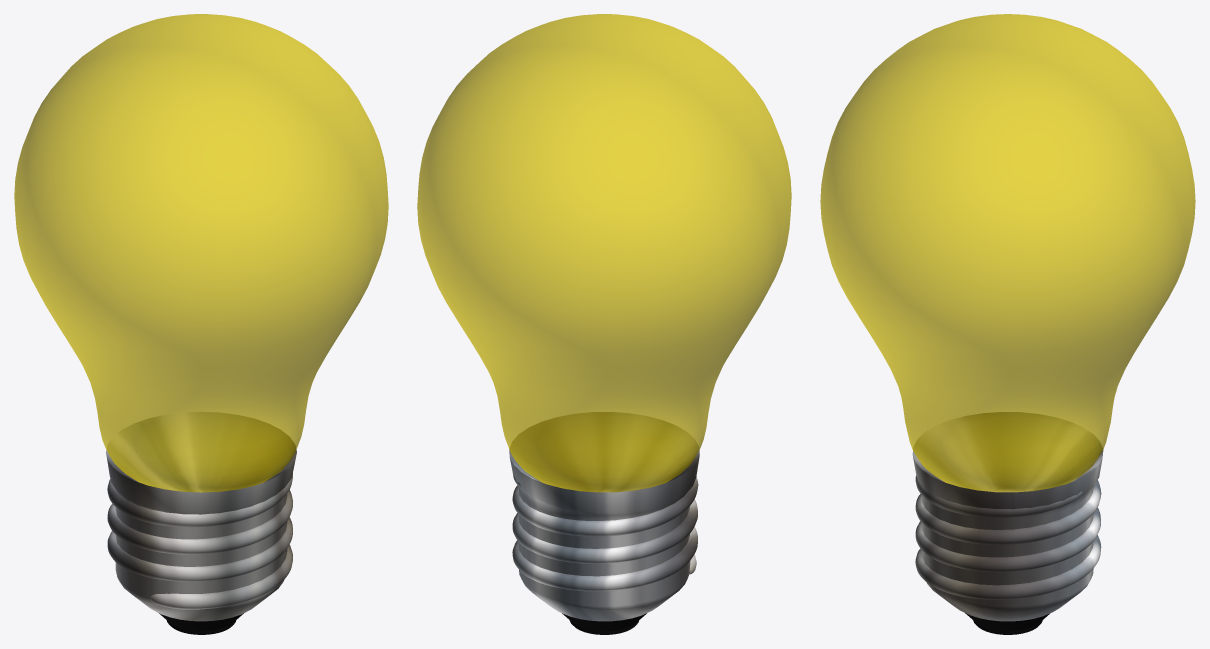
File: Bulb_Verified.FBX
The picture shows the model from 3 angles, left to right: view 1: azimuth 30°, elevation 25°; view 2: azimuth 150°, elevation 25°; view 3: azimuth 270°, elevation 25°; orthographic projection.
Visible parts, largest first — view 1: Bulb_Main, Bottum; view 2: Bulb_Main, Bottum; view 3: Bulb_Main, Bottum.
Boxes of the visible parts, x1,y1,x2,y2 form: Bulb_Main: (14,14,388,492); Bottum: (106,412,296,634); Bulb_Main: (417,14,791,492); Bottum: (509,412,699,634); Bulb_Main: (820,14,1195,492); Bottum: (912,412,1103,634).
Size of the model in its own units: 27.57 by 48.27 by 27.57.
Materials: 3 (2 with a texture image).
